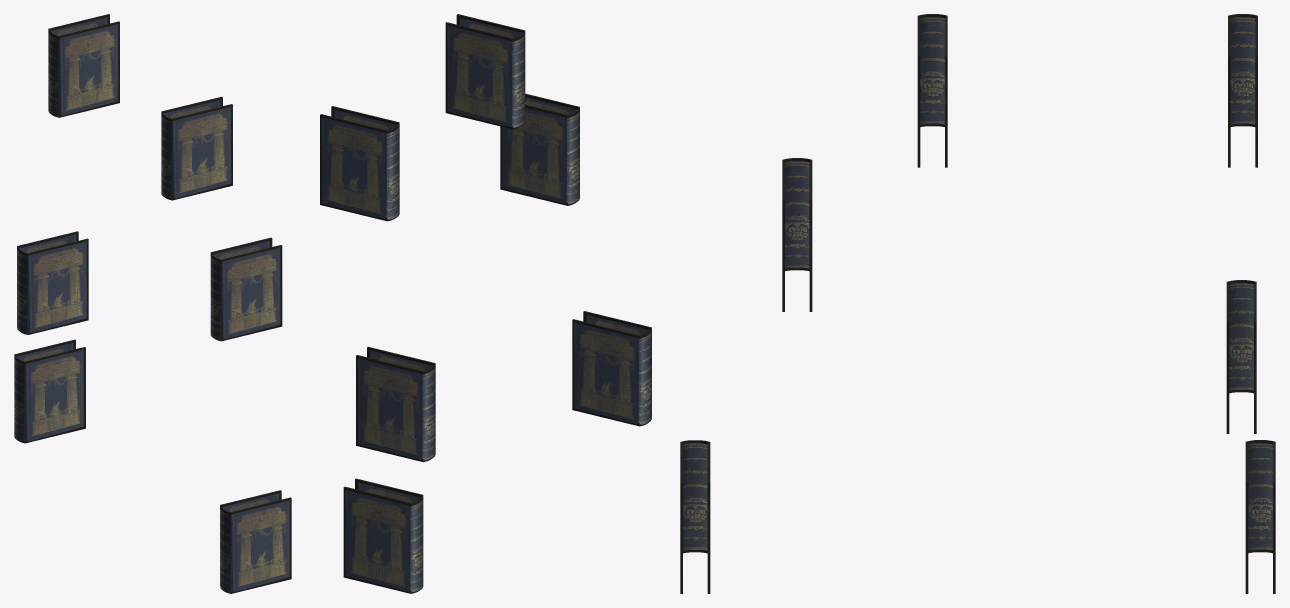
Rendered from book003Scaffale.fbx.
The picture shows the model from 3 angles, left to right: view 1: azimuth 30°, elevation 25°; view 2: azimuth 150°, elevation 25°; view 3: azimuth 270°, elevation 25°; orthographic projection. The views are drawn at different scales.
Parts seen in each view (by area): view 1: Cube.056_book.003_0; view 2: Cube.056_book.003_0; view 3: Cube.056_book.003_0.
Boxes of the visible parts, box(x1,y1,x2,y2) form: Cube.056_book.003_0: box(14, 14, 291, 593); Cube.056_book.003_0: box(320, 14, 651, 593); Cube.056_book.003_0: box(680, 14, 1275, 593).
Bounding box in the file's own units: 42.86 × 174 × 169.
